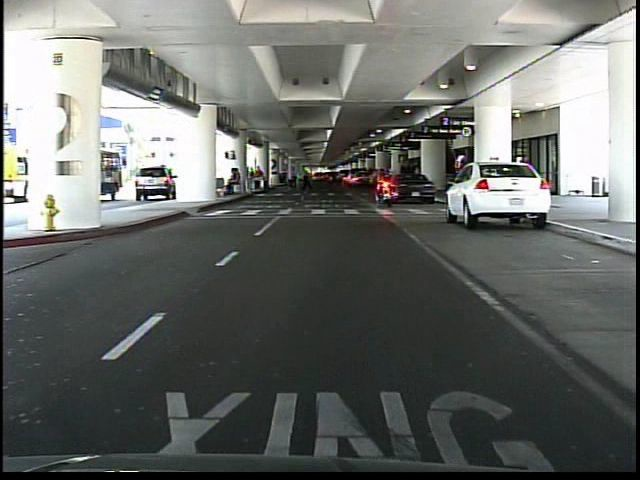person: (451, 151, 471, 221)
